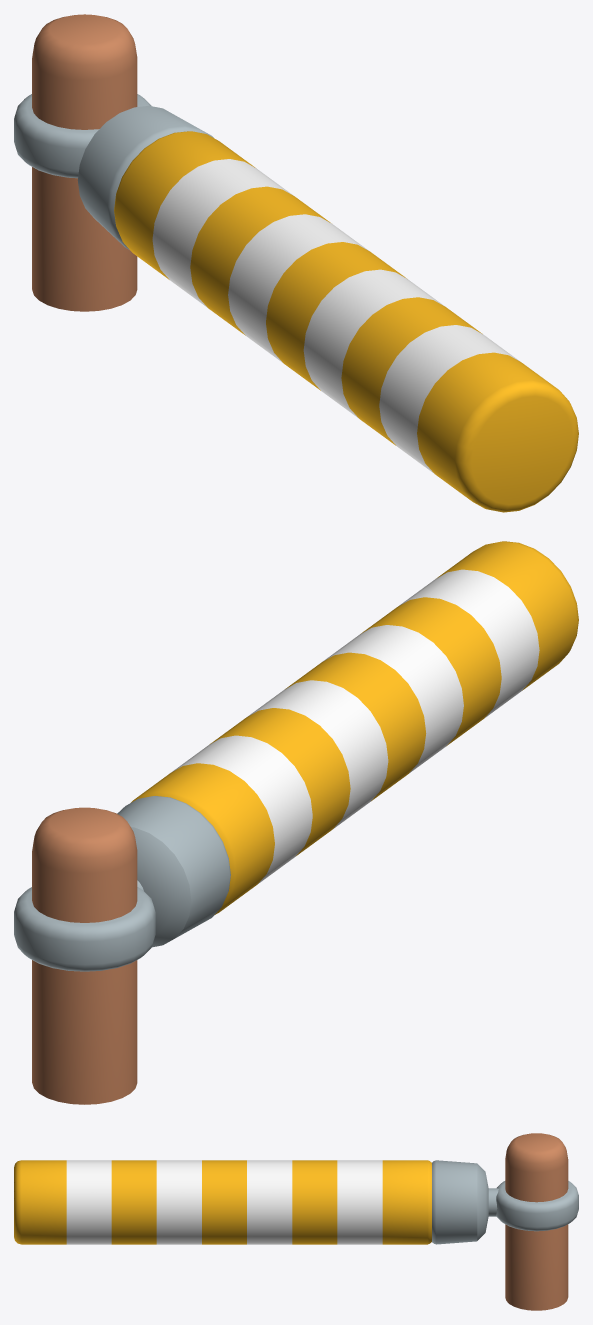
The model's file is swiperLong_teamYellow.glb.
The picture shows the model from 3 angles, top to bottom: view 1: azimuth 30°, elevation 25°; view 2: azimuth 150°, elevation 25°; view 3: azimuth 270°, elevation 25°; orthographic projection. The views are drawn at different scales.
Parts seen in each view (by area): view 1: swiperLong_teamYellow; view 2: swiperLong_teamYellow; view 3: swiperLong_teamYellow.
Part boxes in pixels (x1,y1,x2,y2): swiperLong_teamYellow: (14, 14, 578, 512); swiperLong_teamYellow: (14, 541, 578, 1104); swiperLong_teamYellow: (14, 1133, 578, 1310).
Bounding box in the file's own units: 0.2821 × 0.5719 × 1.88.
